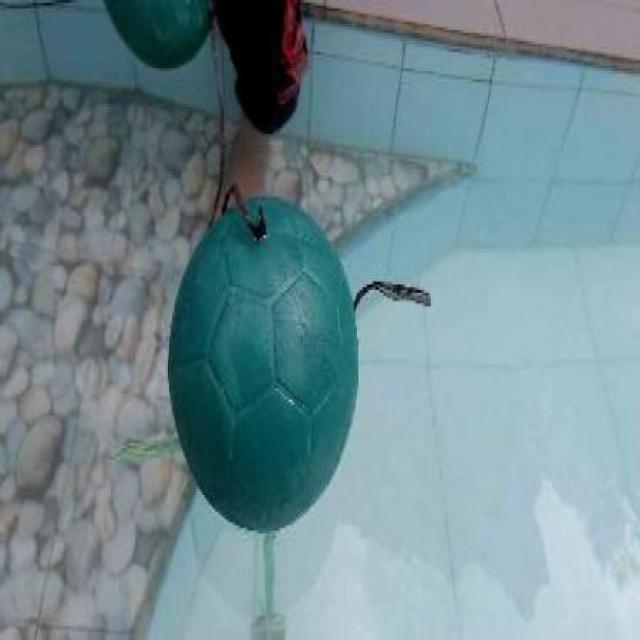buoy: (168, 194, 358, 528)
